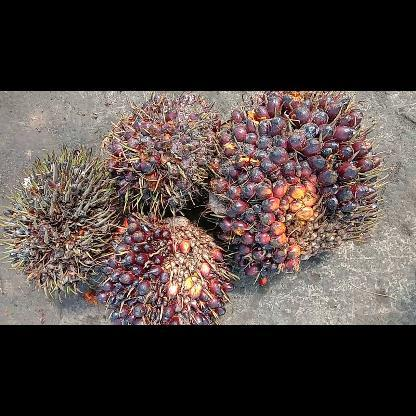Kurang masak: (102, 212, 235, 324), (98, 91, 220, 211)
TBS abnormal: (1, 142, 115, 300)
TBS masak: (208, 90, 378, 286)
